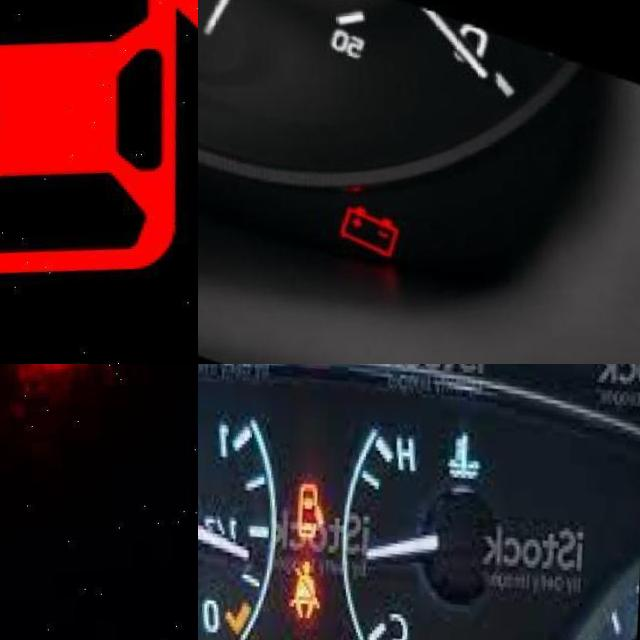Seat Belt: (283, 563, 319, 626)
